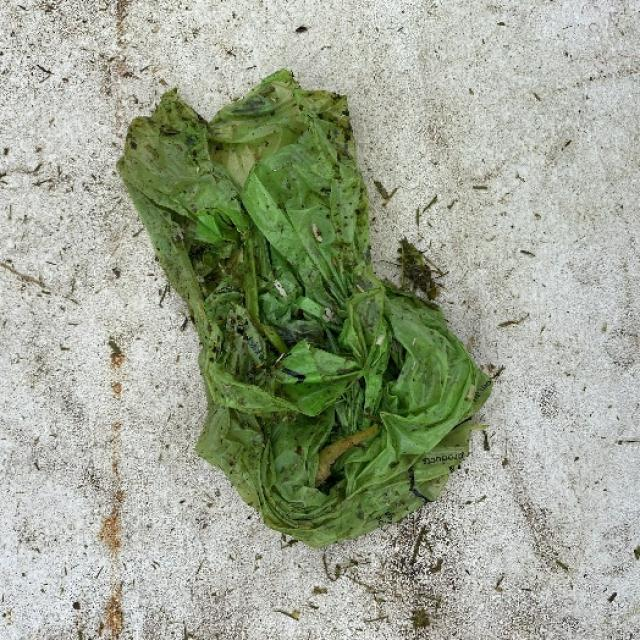organik: (132, 69, 498, 552)
